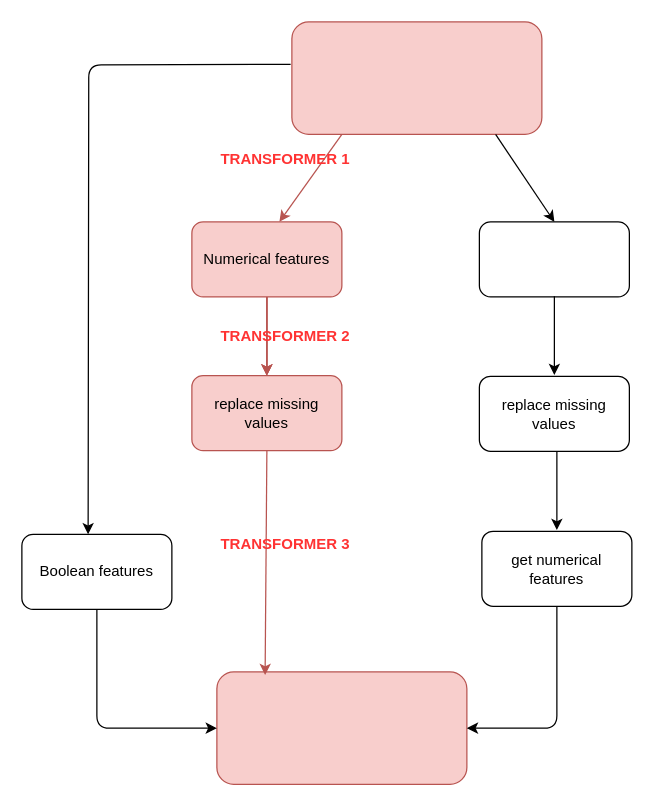
Image size: 654x806. Some labels were removed from this diagram. Each missing label, with the centre of its shape:
"Categorical features" belongs at (553,259).
"Data" belongs at (416,77).
"Data Prepared" belongs at (341,727).
